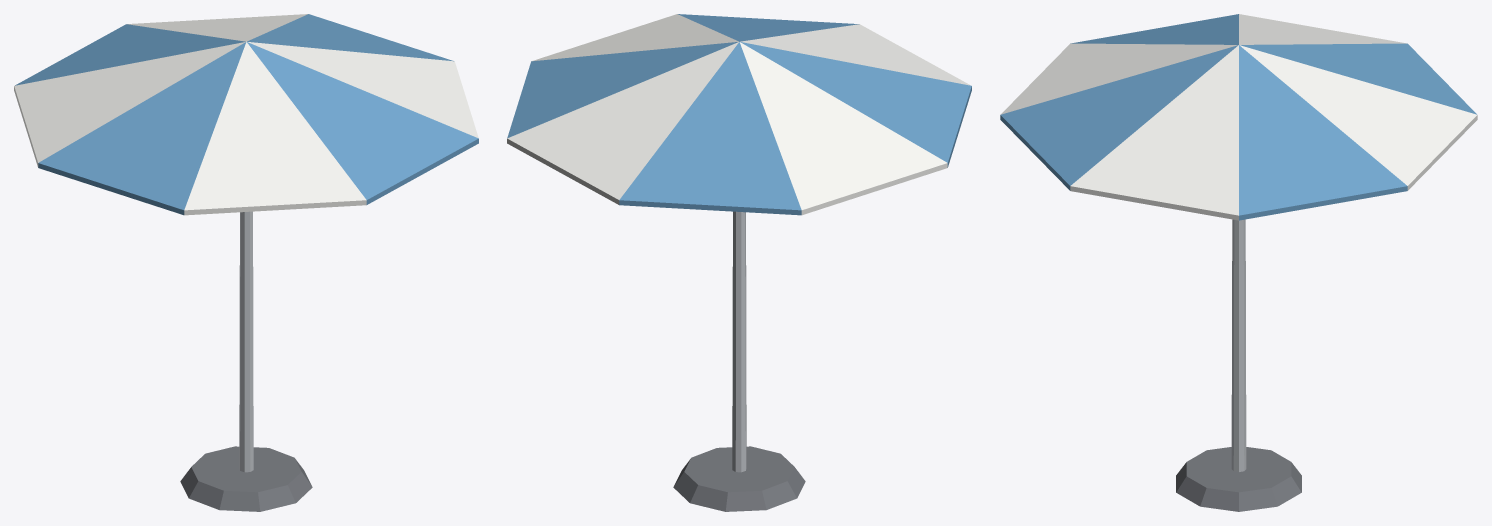
Rendered from tennis-club-and-courts-terrace-parasol-7f958837__33643.glb.
3 views of the same model, side by side, from view 1: azimuth 30°, elevation 25°; view 2: azimuth 150°, elevation 25°; view 3: azimuth 270°, elevation 25° (orthographic).
Visible parts, largest first — view 1: terrace-parasol; view 2: terrace-parasol; view 3: terrace-parasol.
Boxes of the visible parts, <box> form: terrace-parasol: <box>14,14,478,511</box>; terrace-parasol: <box>507,14,971,511</box>; terrace-parasol: <box>1000,14,1477,511</box>.
Bounding box in the file's own units: 2.6 × 2.64 × 2.6.
